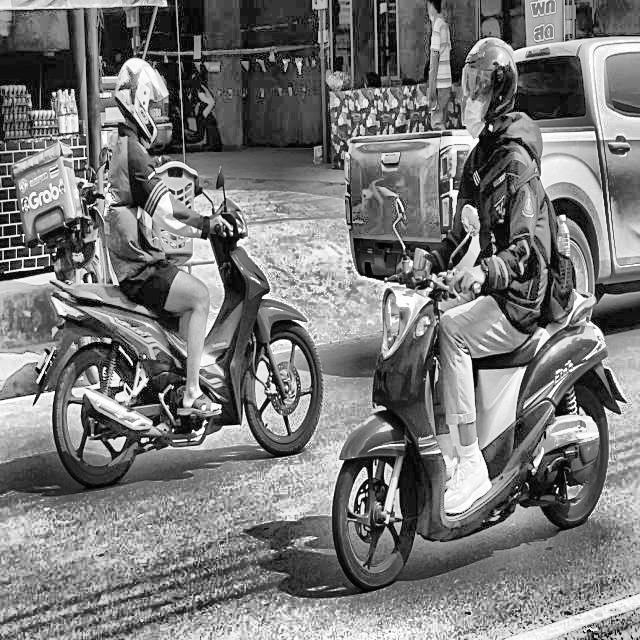Helmet: (458, 33, 520, 146), (112, 53, 170, 154)
